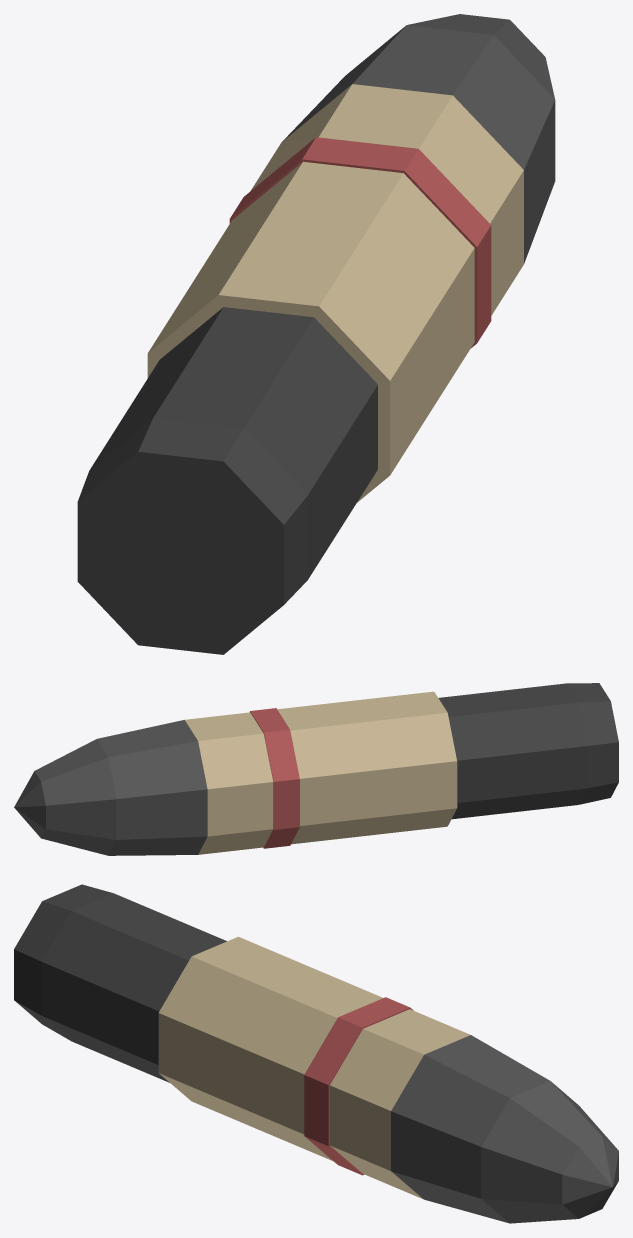
Rendered from ce_ammo2_nbw_he_a.obj.
The picture shows the model from 3 angles, top to bottom: view 1: azimuth 30°, elevation 25°; view 2: azimuth 150°, elevation 25°; view 3: azimuth 270°, elevation 25°; orthographic projection. The views are drawn at different scales.
Parts seen in each view (by area): view 1: ce_ammo2_nbw_he_a_2, ce_ammo2_nbw_he_a_0, ce_ammo2_nbw_he_a_1, ce_ammo2_nbw_he_a_4, ce_ammo2_nbw_he_a_5, ce_ammo2_nbw_he_a_3, ce_ammo2_nbw_he_a_6; view 2: ce_ammo2_nbw_he_a_2, ce_ammo2_nbw_he_a_1, ce_ammo2_nbw_he_a_5, ce_ammo2_nbw_he_a_4, ce_ammo2_nbw_he_a_6, ce_ammo2_nbw_he_a_0, ce_ammo2_nbw_he_a_3, ce_ammo2_nbw_he_a_7; view 3: ce_ammo2_nbw_he_a_2, ce_ammo2_nbw_he_a_1, ce_ammo2_nbw_he_a_5, ce_ammo2_nbw_he_a_4, ce_ammo2_nbw_he_a_6, ce_ammo2_nbw_he_a_3, ce_ammo2_nbw_he_a_0, ce_ammo2_nbw_he_a_7.
Boxes of the visible parts, x1,y1,x2,y2 form: ce_ammo2_nbw_he_a_2: (147,161,474,502); ce_ammo2_nbw_he_a_0: (77,418,307,654); ce_ammo2_nbw_he_a_1: (89,307,377,579); ce_ammo2_nbw_he_a_4: (251,84,523,315); ce_ammo2_nbw_he_a_5: (281,25,555,263); ce_ammo2_nbw_he_a_3: (229,137,491,347); ce_ammo2_nbw_he_a_6: (407,14,554,98); ce_ammo2_nbw_he_a_2: (277,691,457,844); ce_ammo2_nbw_he_a_1: (438,683,586,819); ce_ammo2_nbw_he_a_5: (97,720,207,855); ce_ammo2_nbw_he_a_4: (185,712,273,854); ce_ammo2_nbw_he_a_6: (34,739,116,855); ce_ammo2_nbw_he_a_0: (566,683,618,804); ce_ammo2_nbw_he_a_3: (250,708,299,848); ce_ammo2_nbw_he_a_7: (14,771,45,837); ce_ammo2_nbw_he_a_2: (158,936,382,1160); ce_ammo2_nbw_he_a_1: (41,893,226,1082); ce_ammo2_nbw_he_a_5: (391,1035,549,1223); ce_ammo2_nbw_he_a_4: (329,1009,470,1199); ce_ammo2_nbw_he_a_6: (481,1081,617,1223); ce_ammo2_nbw_he_a_3: (304,997,413,1175); ce_ammo2_nbw_he_a_0: (14,884,112,1040); ce_ammo2_nbw_he_a_7: (562,1136,618,1218).
Bounding box in the file's own units: 0.699 × 0.1884 × 0.699.
